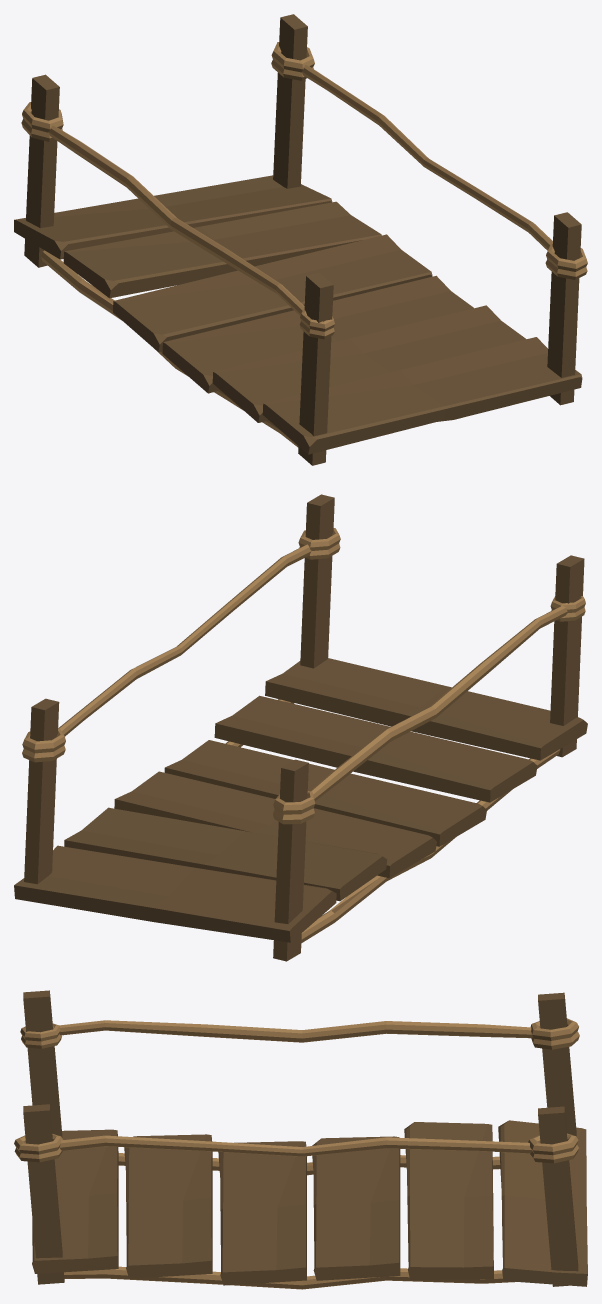
Rendered from Bridge_4.fbx.
3 views of the same model, one above another, from view 1: azimuth 30°, elevation 25°; view 2: azimuth 150°, elevation 25°; view 3: azimuth 270°, elevation 25° (orthographic). The views are drawn at different scales.
Parts seen in each view (by area): view 1: Bridge_4; view 2: Bridge_4; view 3: Bridge_4.
Boxes of the visible parts, box(x1,y1,x2,y2) form: Bridge_4: box(14, 14, 587, 465); Bridge_4: box(14, 494, 587, 961); Bridge_4: box(14, 990, 587, 1289).
Size of the model in its own units: 260 by 170 by 486.
